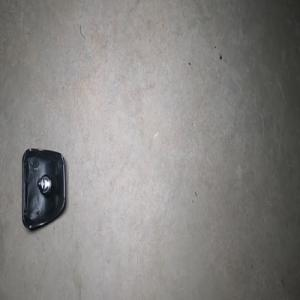LuggagePart: (21, 146, 67, 230)
